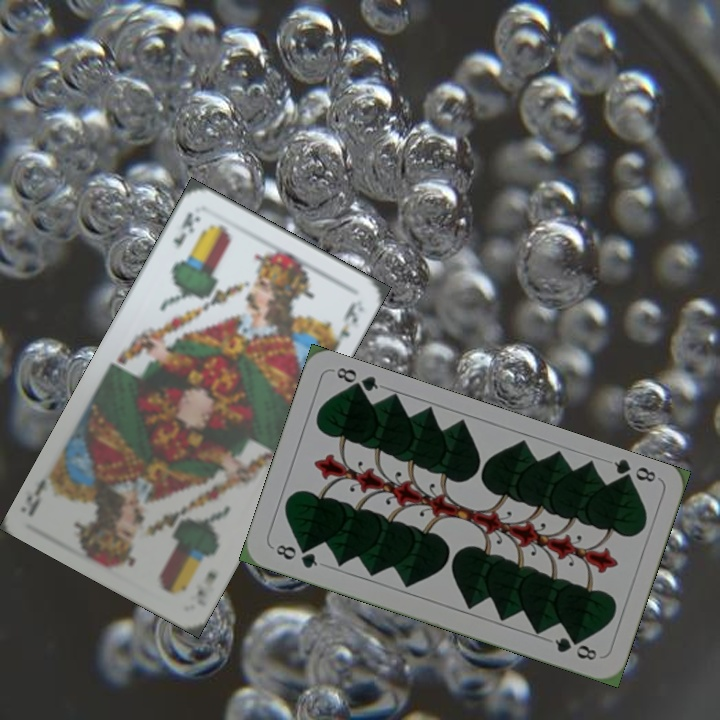EK: (168, 208, 204, 253), (192, 566, 219, 609)
G8: (609, 455, 659, 489), (271, 540, 321, 571)
